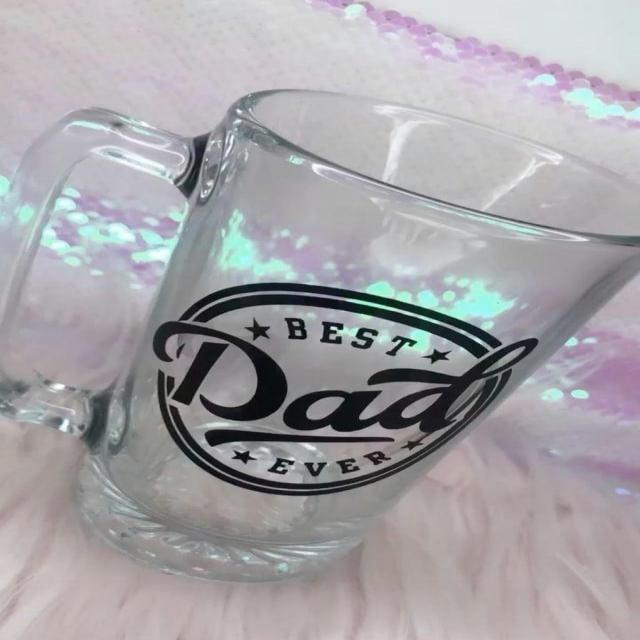glass-mug: (0, 74, 640, 590)
